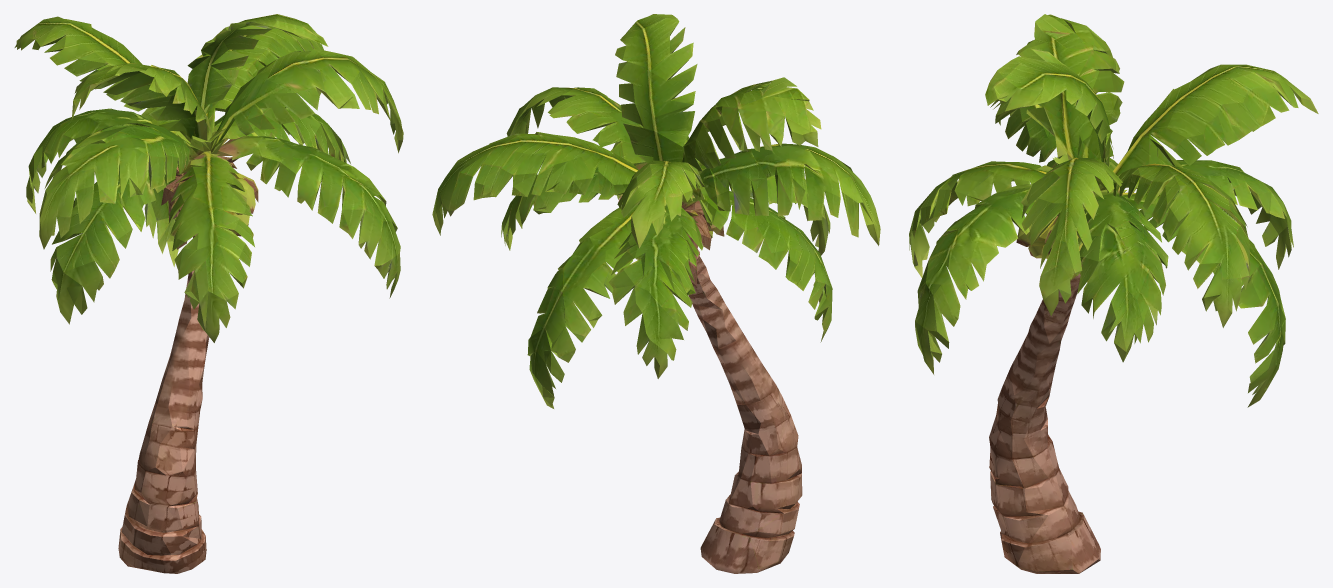
The model's file is palm_tree.glb.
3 renders of one model, left to right at view 1: azimuth 30°, elevation 25°; view 2: azimuth 150°, elevation 25°; view 3: azimuth 270°, elevation 25°, orthographic. The views are drawn at different scales.
Bounding box in the file's own units: 1.41 × 1.9 × 1.29.
Materials: 1 (1 with a texture image).
